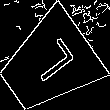L_SW: (21, 38, 76, 92)
